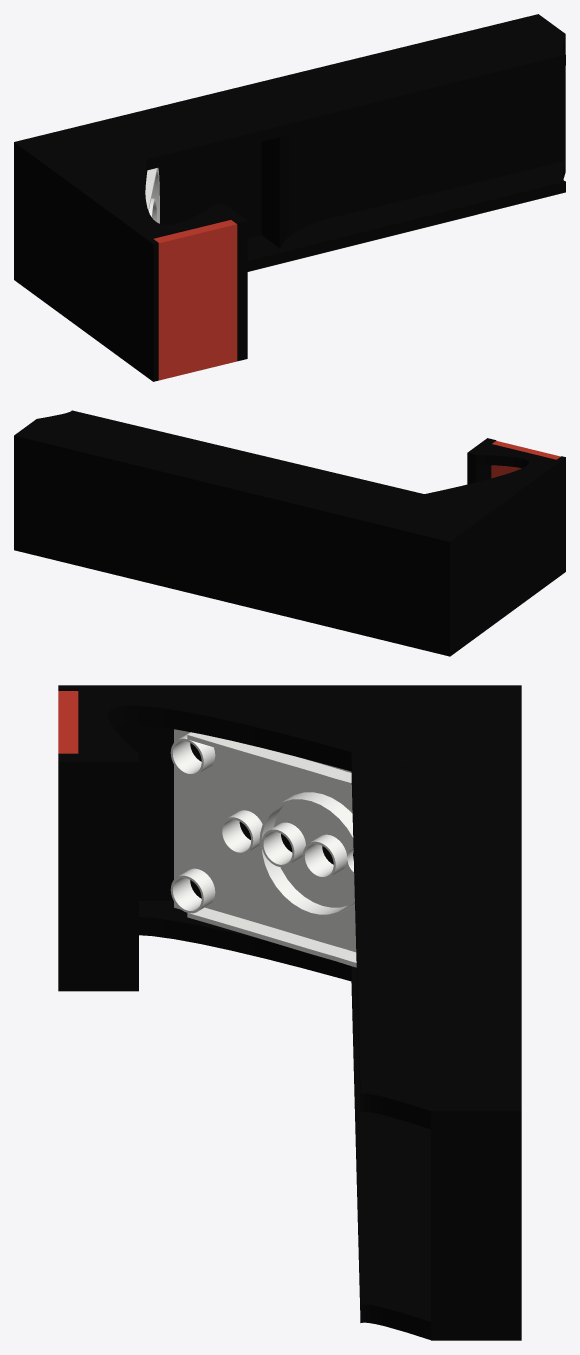
The model's file is Fullmachine.fbx.
3 views of the same model, one above another, from view 1: azimuth 30°, elevation 25°; view 2: azimuth 150°, elevation 25°; view 3: azimuth 270°, elevation 25° (orthographic). The views are drawn at different scales.
Parts seen in each view (by area): view 1: Body5, Body7, Body1; view 2: Body5, Body7; view 3: Body5, Body1, Body7.
Boxes of the visible parts, box(x1,y1,x2,y2) form: Body5: box(14, 14, 565, 381); Body7: box(153, 220, 237, 380); Body1: box(145, 168, 159, 223); Body5: box(14, 410, 565, 656); Body7: box(491, 440, 560, 478); Body5: box(58, 685, 521, 1340); Body1: box(170, 729, 356, 967); Body7: box(58, 691, 78, 753).
Size of the model in its own units: 100 by 25.13 by 46.
